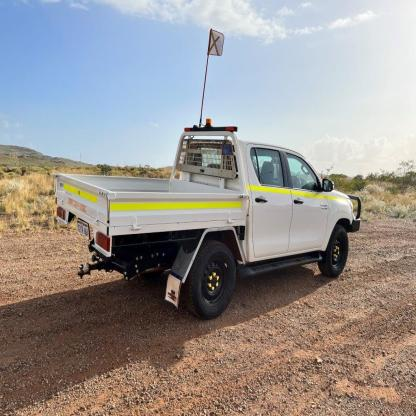light_vehicle: (45, 25, 369, 310)
